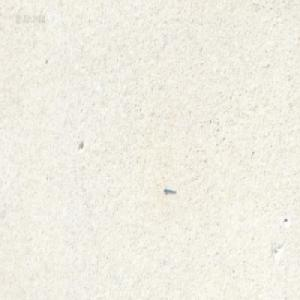Nail: (163, 185, 175, 193)
